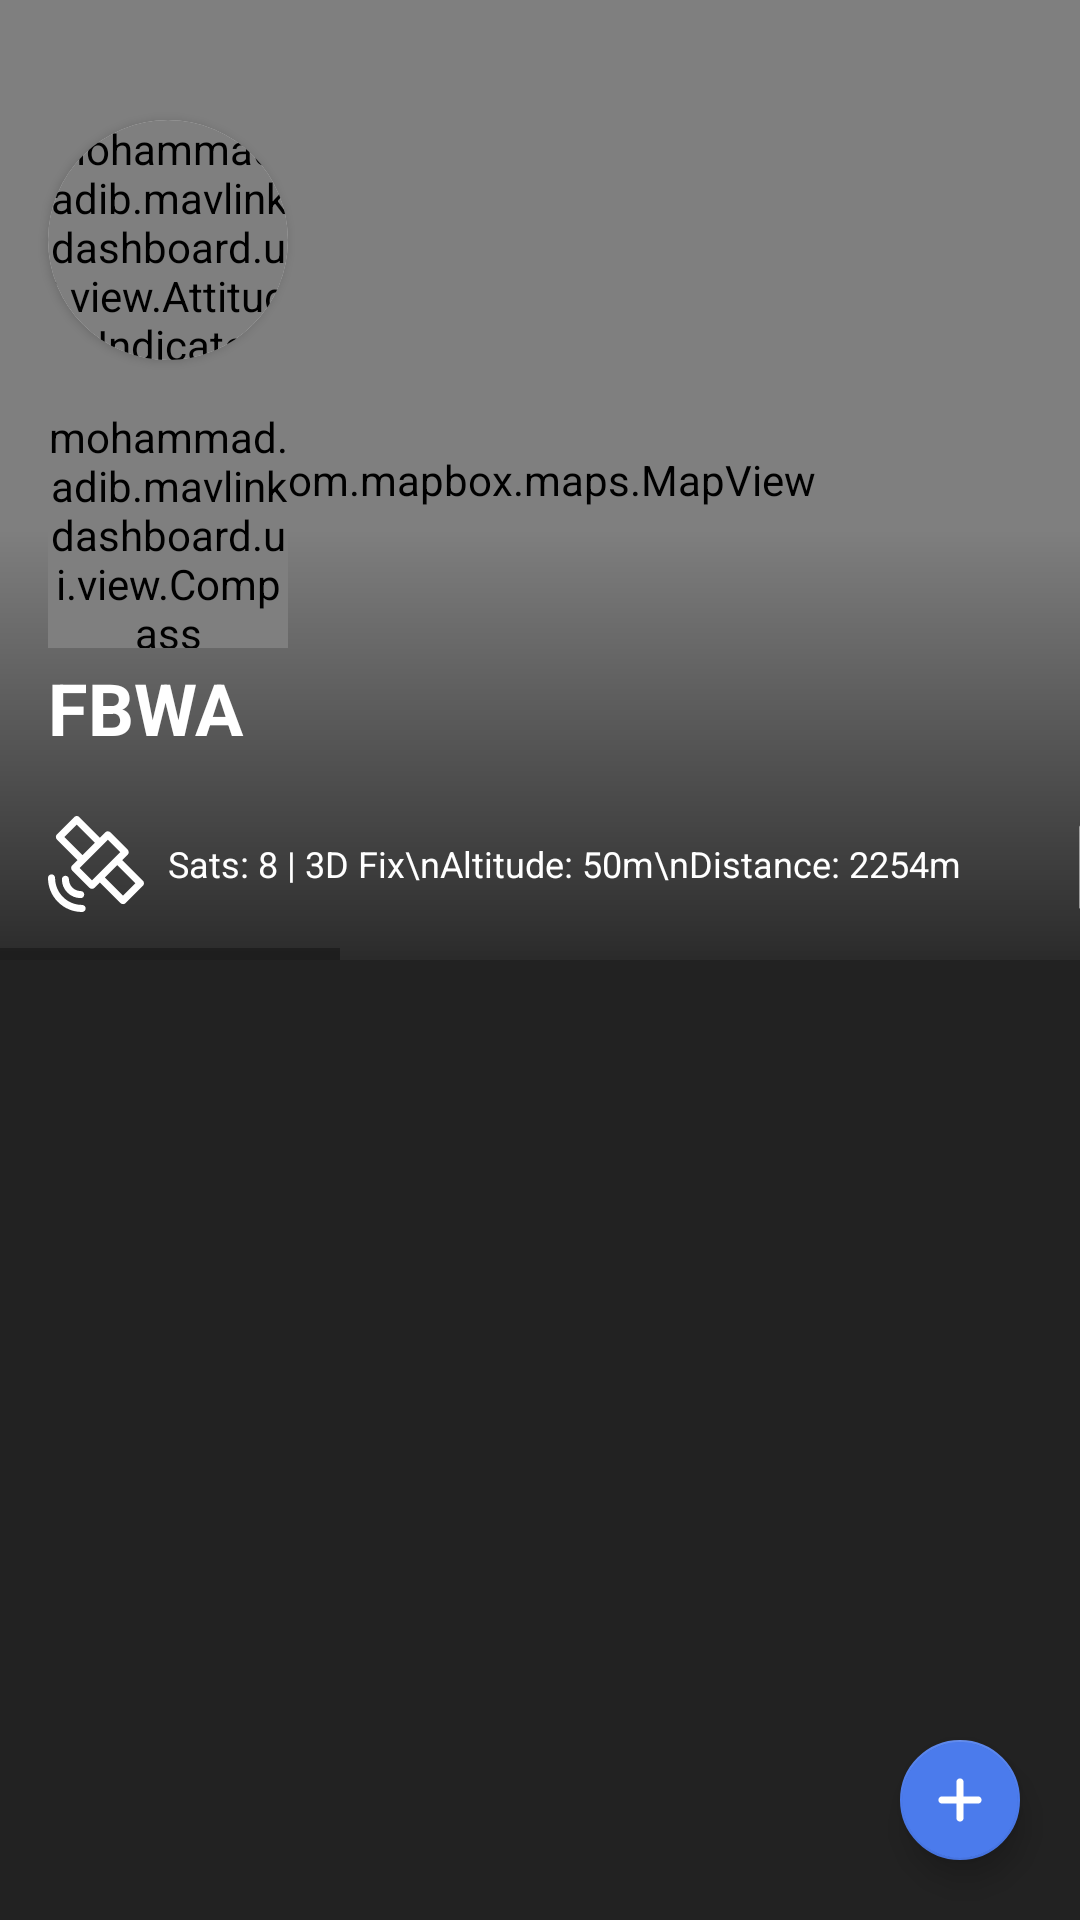

Icons on this 1080 x 1920 Android screen, each with the point to tap as (x,y):
plus: (960,1800)
